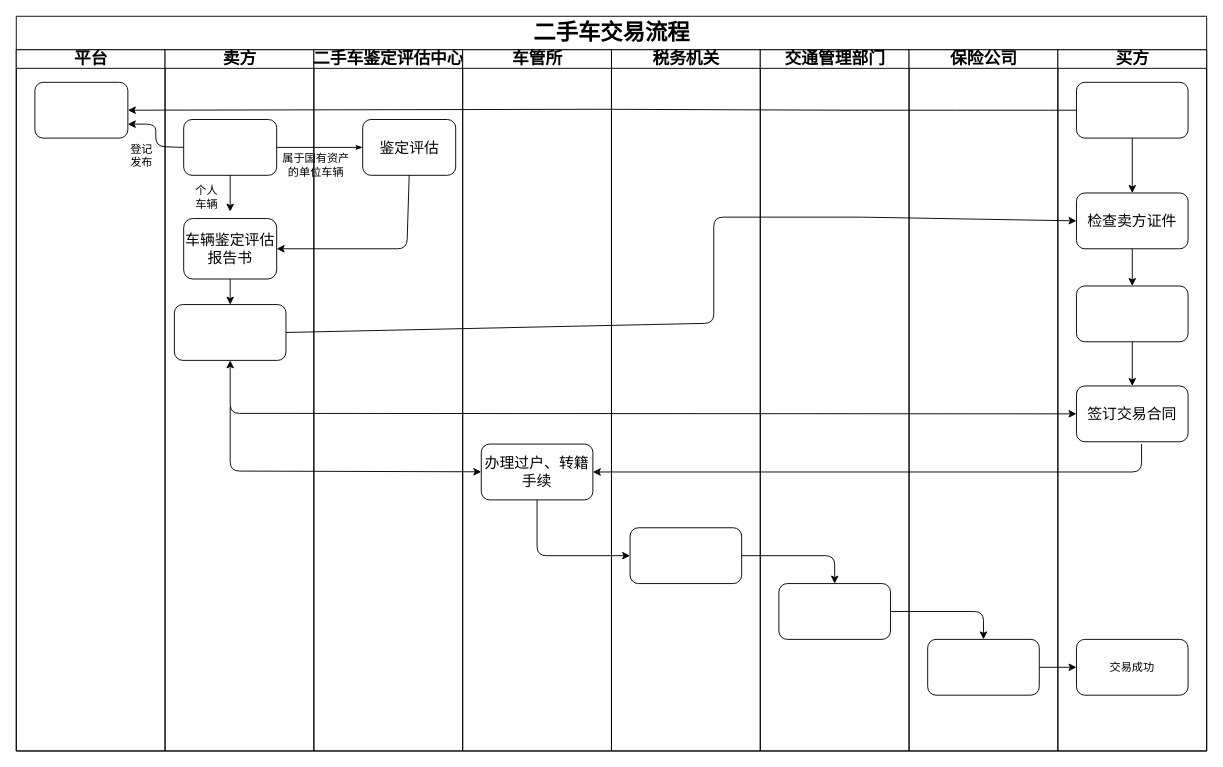
Some shapes in this 1223 by 767 pixel diagram are drawn without their labels. Each missing label, with the centre of its shape:
"二手车" belongs at point (230, 147).
"变更《道路交通运输许可证》" belongs at point (834, 611).
"变更车辆保险投保人" belongs at point (983, 666).
"提供车辆及车主相关证件" belongs at point (229, 332).
"查看车况" belongs at point (1132, 313).
"查看车辆信息 、选择车辆" belongs at point (1132, 109).
"申请报缴税或免税手续" belongs at point (685, 555).
"车辆信息" belongs at point (81, 109).
